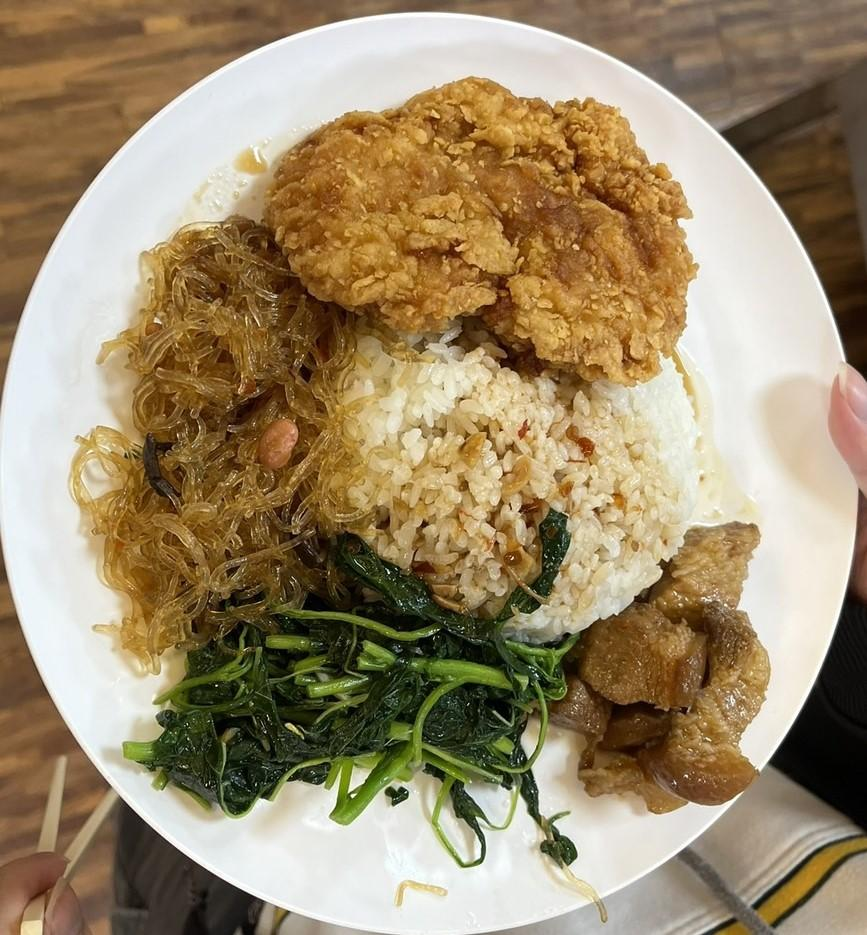big fried chicken leg: (10, 6, 867, 935)
big herbal chicken leg: (310, 332, 704, 643)
braised fish fillet: (80, 214, 345, 647), (149, 560, 552, 833)
braised pork: (261, 77, 704, 387), (563, 524, 798, 815)
